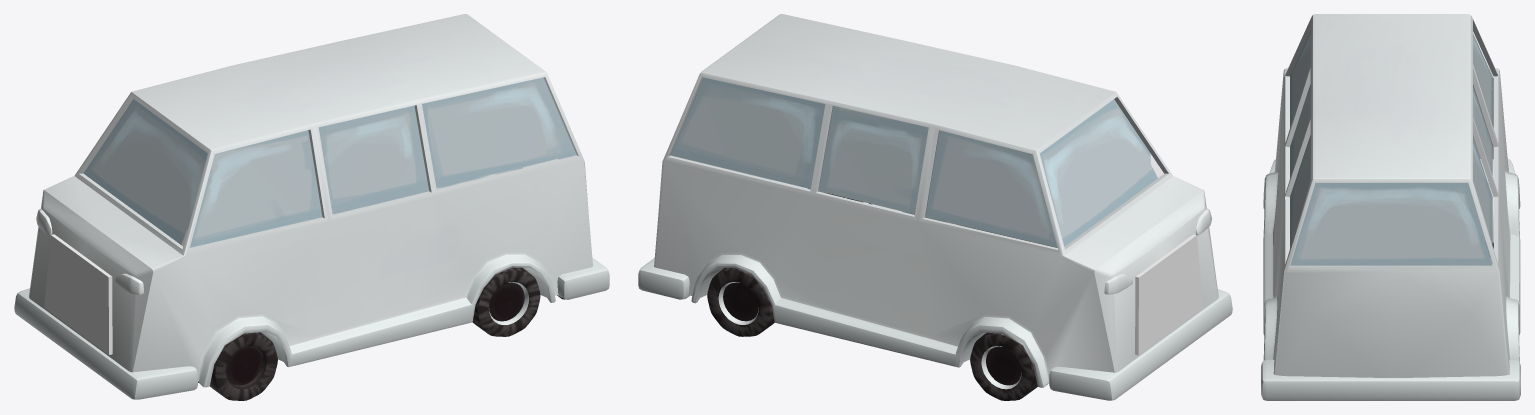
File: Furgo2.fbx
3 renders of one model, left to right at view 1: azimuth 30°, elevation 25°; view 2: azimuth 150°, elevation 25°; view 3: azimuth 270°, elevation 25°, orthographic.
Visible parts, largest first — view 1: furgo; view 2: furgo; view 3: furgo.
Boxes of the visible parts, x1,y1,x2,y2 form: furgo: (14, 14, 609, 400); furgo: (638, 14, 1232, 400); furgo: (1261, 14, 1520, 400).
Bounding box in the file's own units: 436 × 212 × 212.
